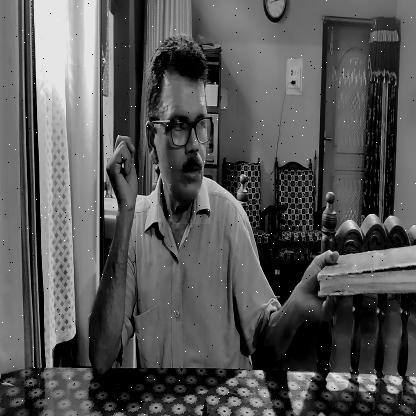Distracted: (151, 66, 210, 224)
